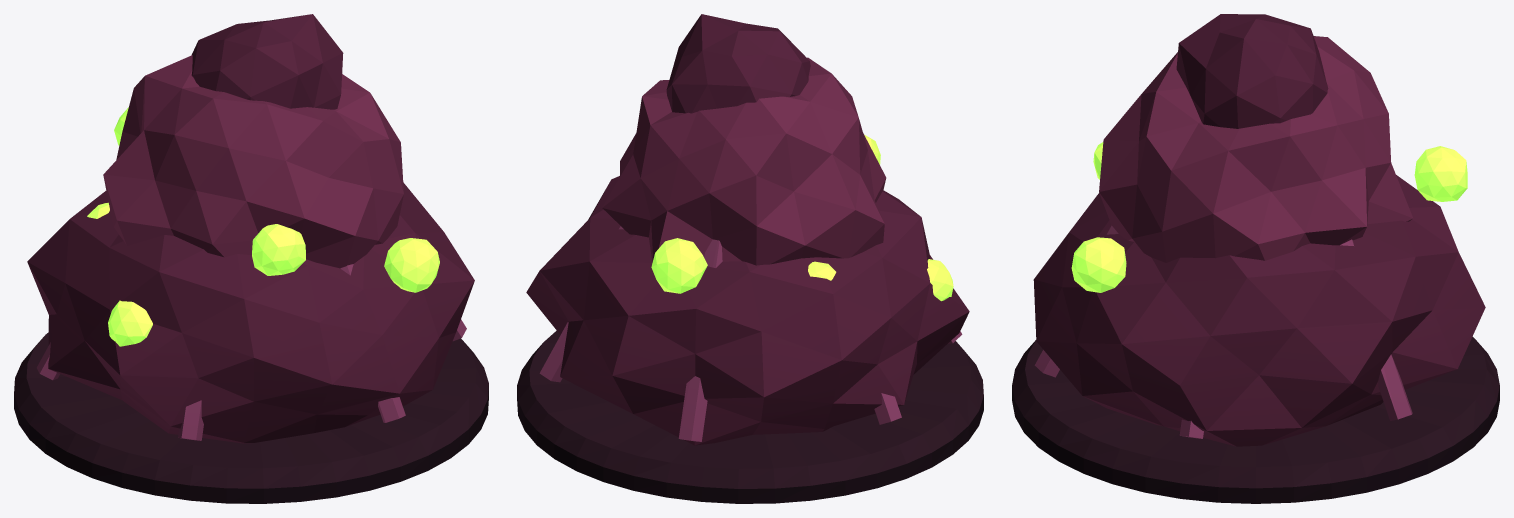
File: creep-mound.glb
3 renders of one model, left to right at view 1: azimuth 30°, elevation 25°; view 2: azimuth 150°, elevation 25°; view 3: azimuth 270°, elevation 25°, orthographic. The views are drawn at different scales.
Size of the model in its own units: 3.4 by 3 by 3.4.
